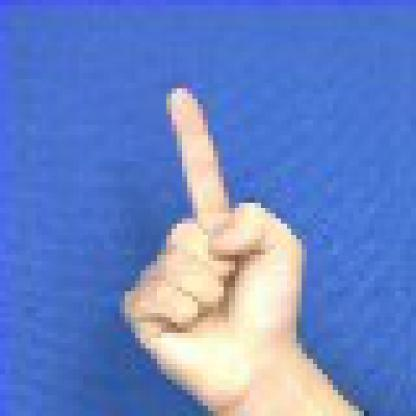one: (111, 76, 311, 416)
